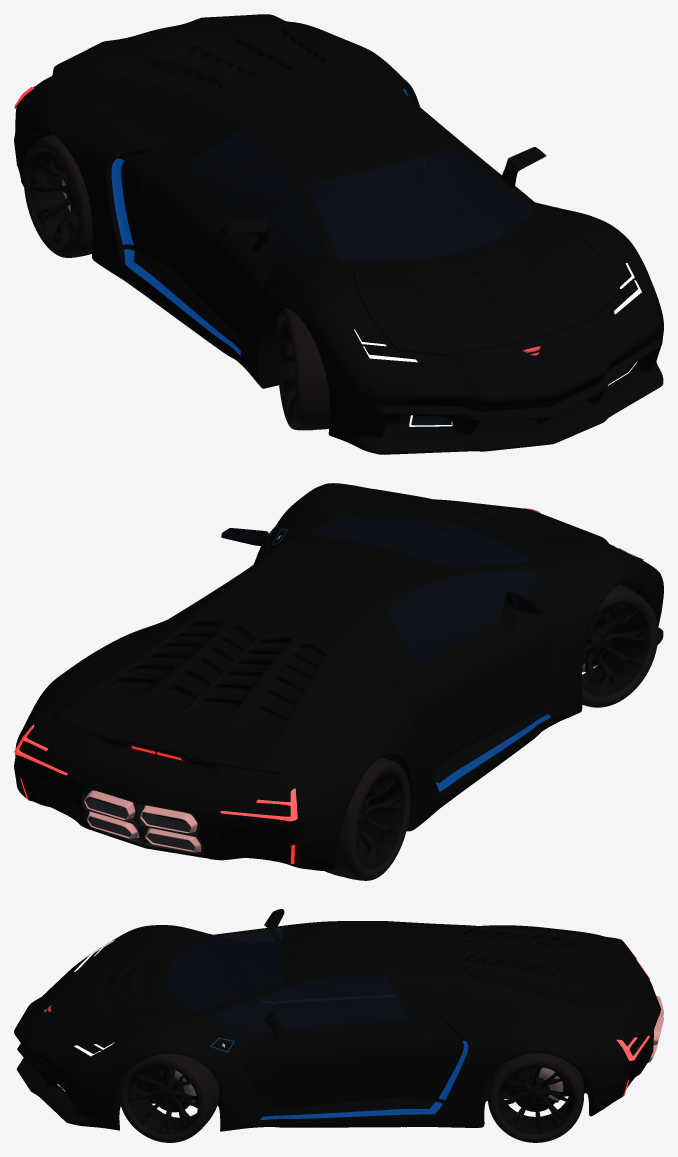
The model's file is supercar-transformed.glb.
3 views of the same model, one above another, from view 1: azimuth 30°, elevation 25°; view 2: azimuth 150°, elevation 25°; view 3: azimuth 270°, elevation 25° (orthographic). The views are drawn at different scales.
Visible parts, largest first — view 1: CarBody, CarBody_0.003, CarBody_0.001, CarBody_0.002, CarBody.003, CarBody.001, Tyre1.001, Disk1.002, Tyre1.002, SideMirrors, Disk1.001, CarBody.002; view 2: CarBody, CarBody_0.001, CarBody_0.002, CarBody_0.003, CarBody.001, CarBody.003, Disk1.001, Disk1.002, Tyre1.002, Tyre1.001, SideMirrors, CarBody.004 (+1 smaller); view 3: CarBody_0.003, CarBody_0.002, CarBody, CarBody_0.001, CarBody.001, CarBody.003, Disk1.003, Disk1, Tyre1, Tyre1.003, SideMirrors, CarBody.002 (+1 smaller).
Boxes of the visible parts, x1=… form: CarBody: x1=14, y1=20, x2=637, y2=454; CarBody_0.003: x1=120, y1=14, x2=663, y2=415; CarBody_0.001: x1=14, y1=17, x2=607, y2=425; CarBody_0.002: x1=17, y1=17, x2=652, y2=438; CarBody.003: x1=309, y1=151, x2=534, y2=261; CarBody.001: x1=187, y1=94, x2=505, y2=258; Tyre1.001: x1=276, y1=307, x2=330, y2=430; Disk1.002: x1=29, y1=150, x2=78, y2=246; Tyre1.002: x1=23, y1=134, x2=92, y2=257; SideMirrors: x1=221, y1=147, x2=546, y2=251; Disk1.001: x1=280, y1=320, x2=295, y2=417; CarBody.002: x1=352, y1=260, x2=643, y2=364; CarBody: x1=18, y1=499, x2=663, y2=864; CarBody_0.001: x1=41, y1=499, x2=617, y2=868; CarBody_0.002: x1=14, y1=513, x2=661, y2=871; CarBody_0.003: x1=14, y1=483, x2=536, y2=823; CarBody.001: x1=215, y1=553, x2=537, y2=665; CarBody.003: x1=309, y1=514, x2=534, y2=568; Disk1.001: x1=581, y1=604, x2=649, y2=696; Disk1.002: x1=356, y1=773, x2=404, y2=869; Tyre1.002: x1=325, y1=757, x2=410, y2=880; Tyre1.001: x1=582, y1=584, x2=658, y2=707; SideMirrors: x1=221, y1=528, x2=546, y2=630; CarBody.004: x1=14, y1=723, x2=298, y2=821; CarBody_0.003: x1=16, y1=946, x2=653, y2=1130; CarBody_0.002: x1=35, y1=922, x2=653, y2=1131; CarBody: x1=16, y1=921, x2=663, y2=1120; CarBody_0.001: x1=14, y1=926, x2=661, y2=1130; CarBody.001: x1=208, y1=927, x2=408, y2=1033; CarBody.003: x1=165, y1=928, x2=283, y2=1012; Disk1.003: x1=498, y1=1066, x2=573, y2=1135; Disk1: x1=127, y1=1065, x2=198, y2=1134; Tyre1: x1=119, y1=1053, x2=219, y2=1142; Tyre1.003: x1=487, y1=1053, x2=584, y2=1142; SideMirrors: x1=264, y1=909, x2=284, y2=1040; CarBody.002: x1=71, y1=939, x2=116, y2=1057.
Size of the model in its own units: 11.95 by 5.74 by 24.26.
